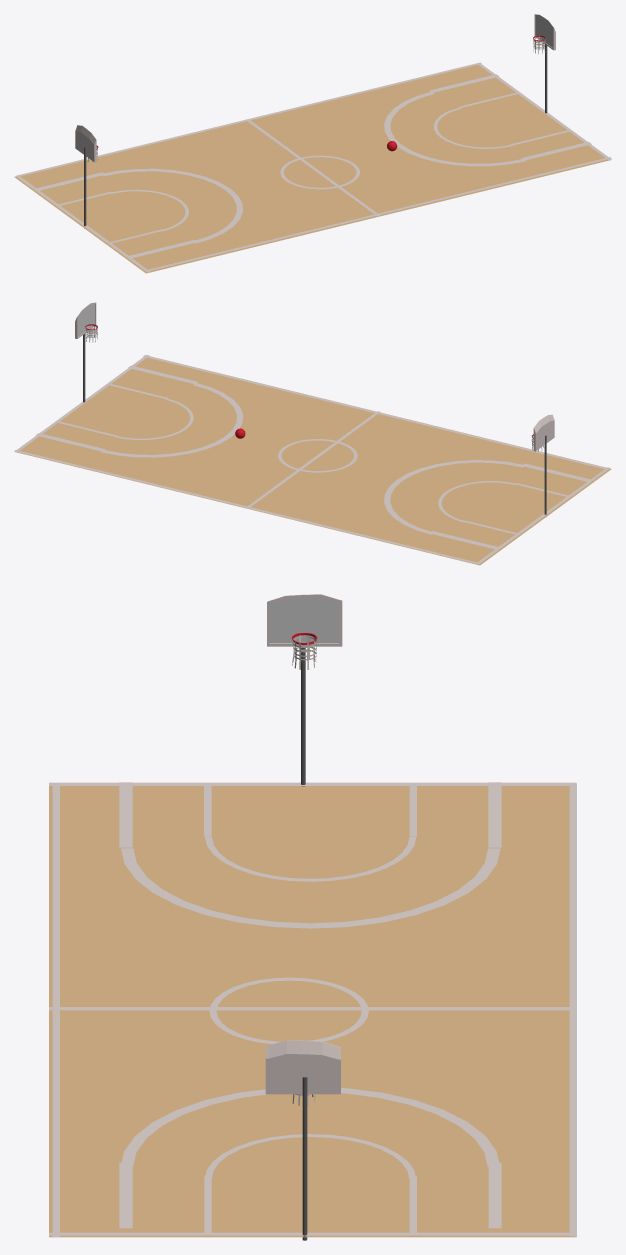
Rendered from basketball ball.fbx.
3 renders of one model, top to bottom at view 1: azimuth 30°, elevation 25°; view 2: azimuth 150°, elevation 25°; view 3: azimuth 270°, elevation 25°, orthographic. The views are drawn at different scales.
Visible parts, largest first — view 1: Plane, Plane.009, Plane.008, Plane.004, Plane.005, Cylinder.001, Cylinder.000, Plane.006, Plane.007, Plane.001, Plane.003, Circle (+1 smaller); view 2: Plane, Plane.009, Plane.008, Plane.005, Plane.004, Cylinder.001, Cylinder.000, Plane.006, Plane.007, Plane.001, Plane.003, Plane.002 (+1 smaller); view 3: Plane, Plane.008, Cylinder.001, Cylinder.000, Plane.009, Plane.005, Plane.004, Plane.001, Plane.002, Plane.003, Plane.006, Plane.007 (+1 smaller).
Boxes of the visible parts, x1=… form: Plane: x1=14, y1=65, x2=611, y2=273; Plane.009: x1=384, y1=74, x2=591, y2=166; Plane.008: x1=35, y1=168, x2=242, y2=258; Plane.004: x1=148, y1=157, x2=611, y2=270; Plane.005: x1=18, y1=62, x2=481, y2=176; Cylinder.001: x1=533, y1=14, x2=555, y2=113; Cylinder.000: x1=75, y1=125, x2=98, y2=228; Plane.006: x1=433, y1=92, x2=569, y2=148; Plane.007: x1=58, y1=189, x2=188, y2=243; Plane.001: x1=247, y1=120, x2=379, y2=216; Plane.003: x1=16, y1=175, x2=150, y2=272; Circle: x1=280, y1=155, x2=359, y2=189; Plane: x1=15, y1=356, x2=611, y2=565; Plane.009: x1=35, y1=365, x2=243, y2=457; Plane.008: x1=384, y1=460, x2=591, y2=549; Plane.005: x1=14, y1=450, x2=476, y2=563; Plane.004: x1=143, y1=355, x2=605, y2=468; Cylinder.001: x1=75, y1=302, x2=97, y2=402; Cylinder.000: x1=531, y1=414, x2=554, y2=514; Plane.006: x1=56, y1=383, x2=193, y2=439; Plane.007: x1=438, y1=481, x2=568, y2=534; Plane.001: x1=247, y1=411, x2=380, y2=506; Plane.003: x1=476, y1=467, x2=609, y2=564; Plane.002: x1=17, y1=355, x2=149, y2=450; Plane: x1=49, y1=786, x2=576, y2=1237; Plane.008: x1=119, y1=782, x2=501, y2=928; Cylinder.001: x1=265, y1=1040, x2=340, y2=1240; Cylinder.000: x1=267, y1=594, x2=342, y2=786; Plane.009: x1=119, y1=1088, x2=501, y2=1228; Plane.005: x1=569, y1=784, x2=576, y2=1236; Plane.004: x1=52, y1=786, x2=59, y2=1236; Plane.001: x1=49, y1=1007, x2=569, y2=1010; Plane.002: x1=49, y1=1232, x2=569, y2=1235; Plane.003: x1=49, y1=782, x2=576, y2=785; Plane.006: x1=204, y1=1134, x2=416, y2=1234; Plane.007: x1=204, y1=785, x2=416, y2=881.
Bounding box in the file's own units: 1811 × 366 × 887.
